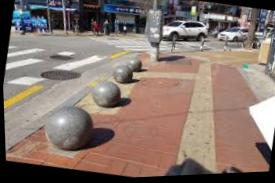Animal: (52, 100, 105, 149), (76, 68, 119, 114), (110, 59, 137, 88)
